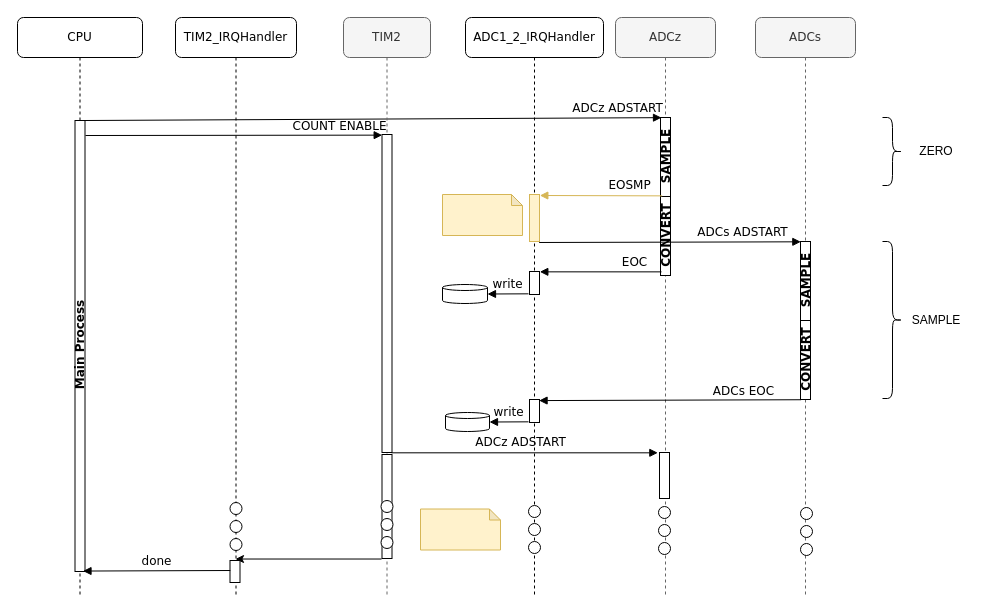
Some shapes in this 984 by 615 pixel diagram are drawn without their labels. The centre of each missing label's shape, as x and y in pixels:
"Repeat for 16 samples" belongs at pixel 460 529.
"This timing is critical" belongs at pixel 482 215.
